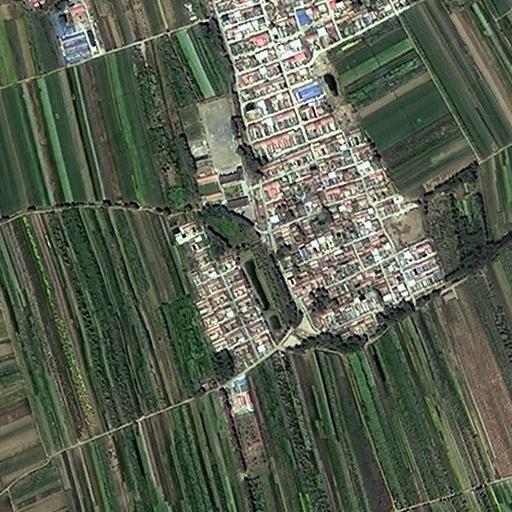school: (179, 95, 244, 210)
